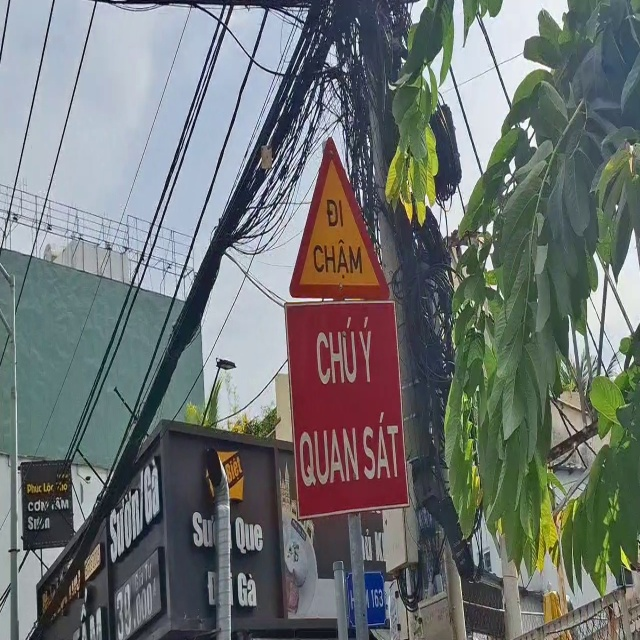di cham: (272, 121, 399, 300)
